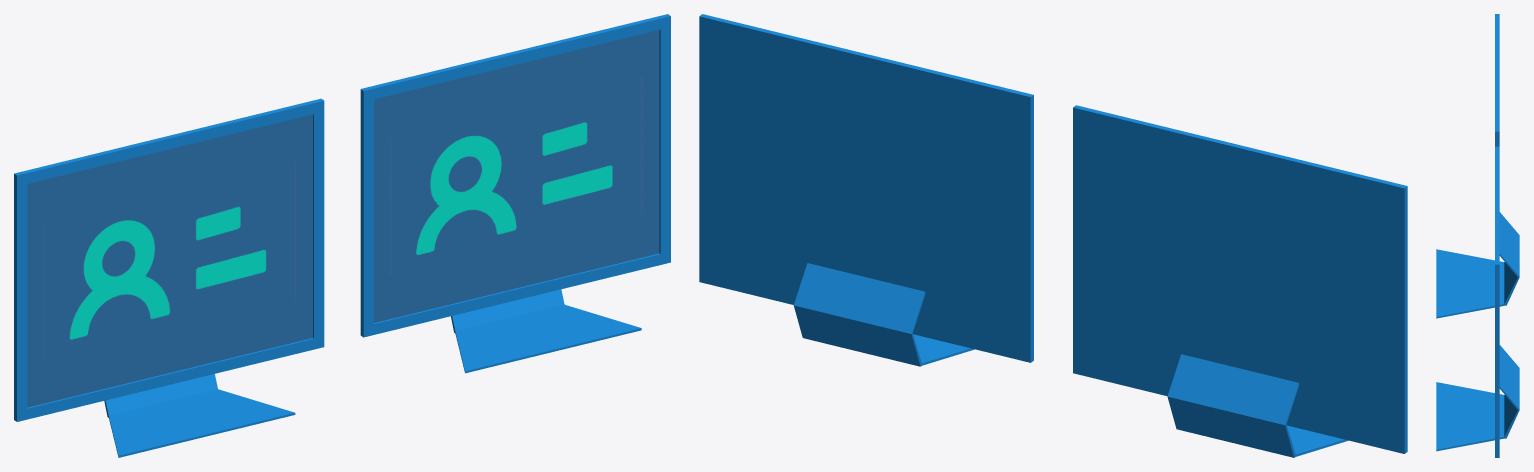
File: webs.gltf
3 renders of one model, left to right at view 1: azimuth 30°, elevation 25°; view 2: azimuth 150°, elevation 25°; view 3: azimuth 270°, elevation 25°, orthographic. The views are drawn at different scales.
Parts seen in each view (by area): view 1: 对象426, 对象427, 工程师站组; view 2: 工程师站组; view 3: 工程师站组.
Part boxes in pixels (x1,y1,x2,y2): 对象426: [27, 114, 312, 407]; 对象427: [374, 30, 659, 322]; 工程师站组: [14, 14, 670, 457]; 工程师站组: [699, 14, 1407, 457]; 工程师站组: [1436, 14, 1519, 457].
Bounding box in the file's own units: 1.68 × 0.6647 × 0.2369.
Materials: 2 (1 with a texture image).
